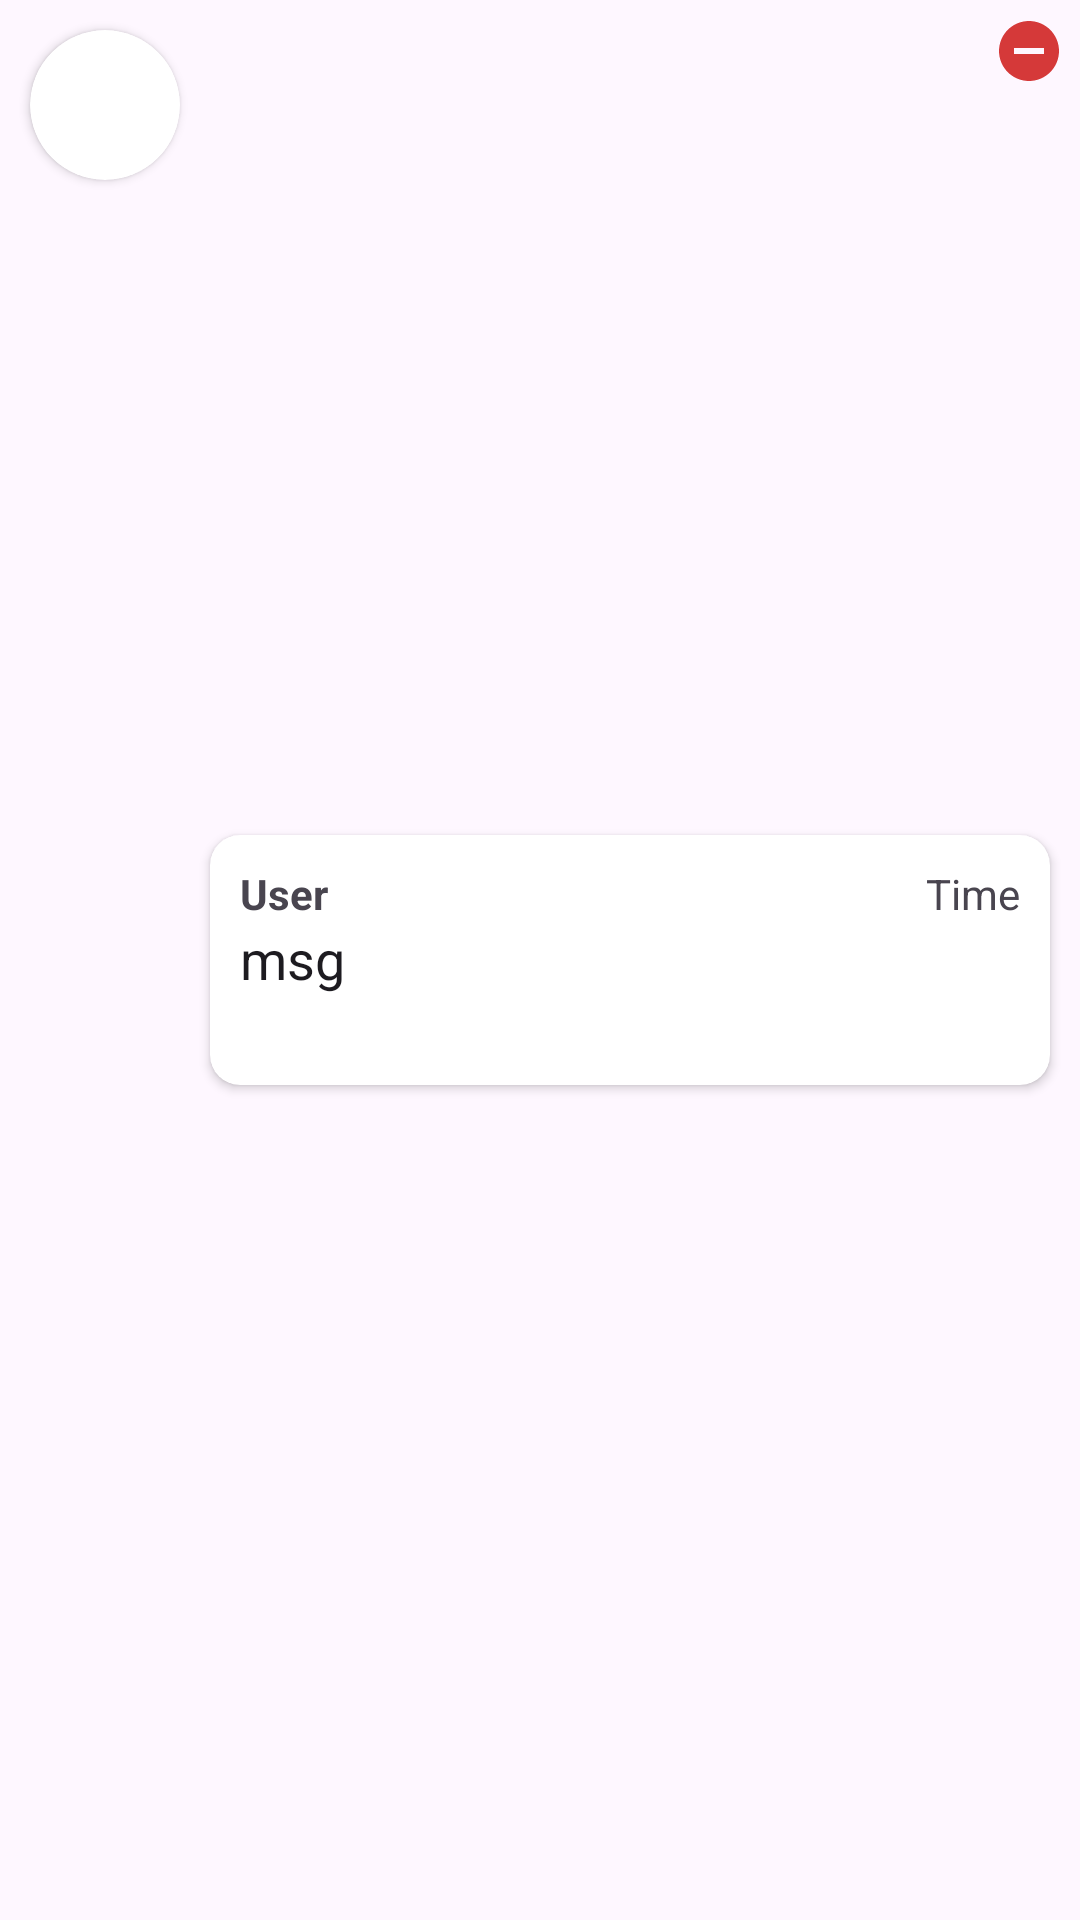

Icons on this 1080*1920 Android screen, each with its box as Rect(x1, y1, x2, y2):
remove circle: Rect(999, 21, 1059, 81)
